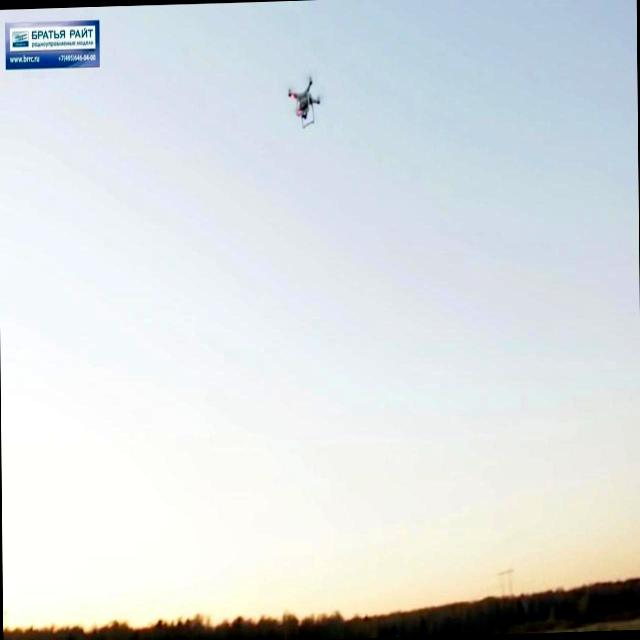drone: (286, 76, 320, 130)
